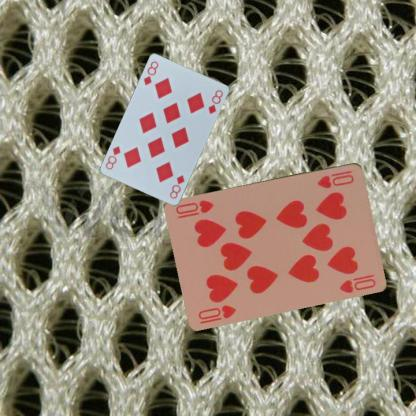10h: (315, 167, 355, 189), (196, 302, 237, 321)
8d: (167, 172, 186, 200), (141, 59, 159, 87)
